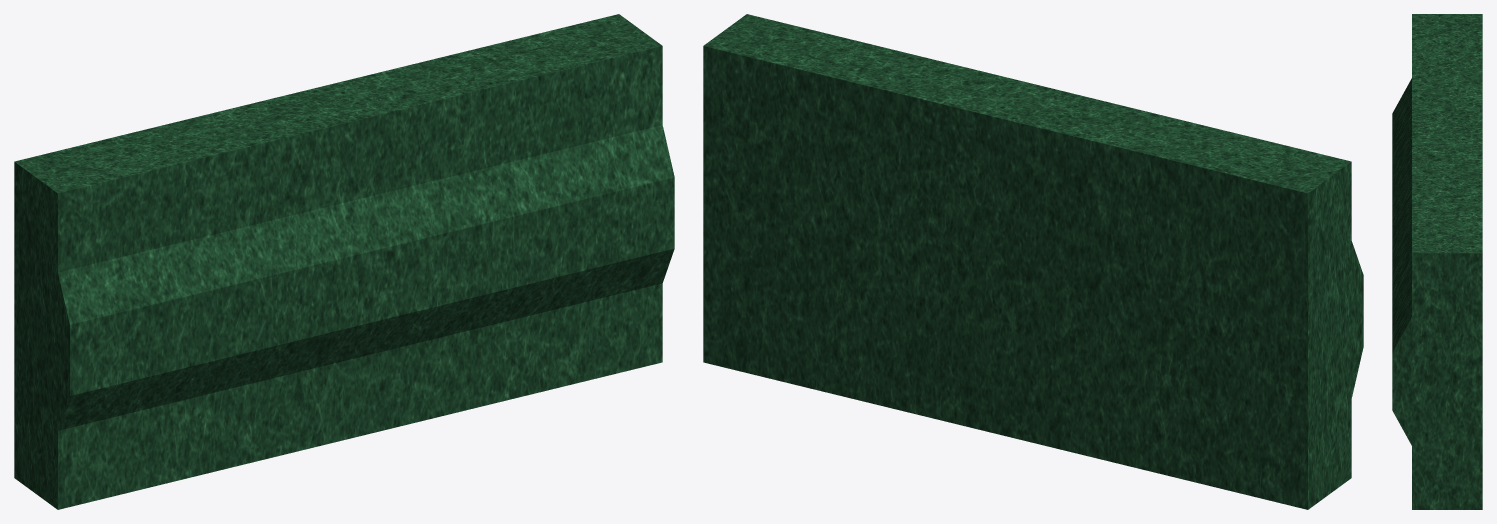
The model's file is PoolTableSide.fbx.
3 renders of one model, left to right at view 1: azimuth 30°, elevation 25°; view 2: azimuth 150°, elevation 25°; view 3: azimuth 270°, elevation 25°, orthographic. The views are drawn at different scales.
Visible parts, largest first — view 1: Plane.002; view 2: Plane.002; view 3: Plane.002.
Boxes of the visible parts, left/top/right/bottom form: Plane.002: left=14, top=14, right=674, bottom=509; Plane.002: left=703, top=14, right=1363, bottom=509; Plane.002: left=1392, top=14, right=1482, bottom=509.
Bounding box in the file's own units: 2 × 1 × 0.3188.
